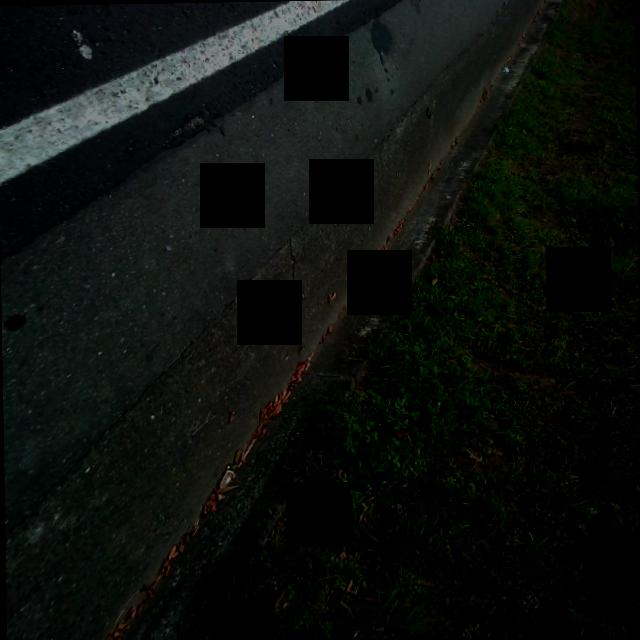DITCH: (0, 0, 638, 640), (0, 0, 564, 640)
